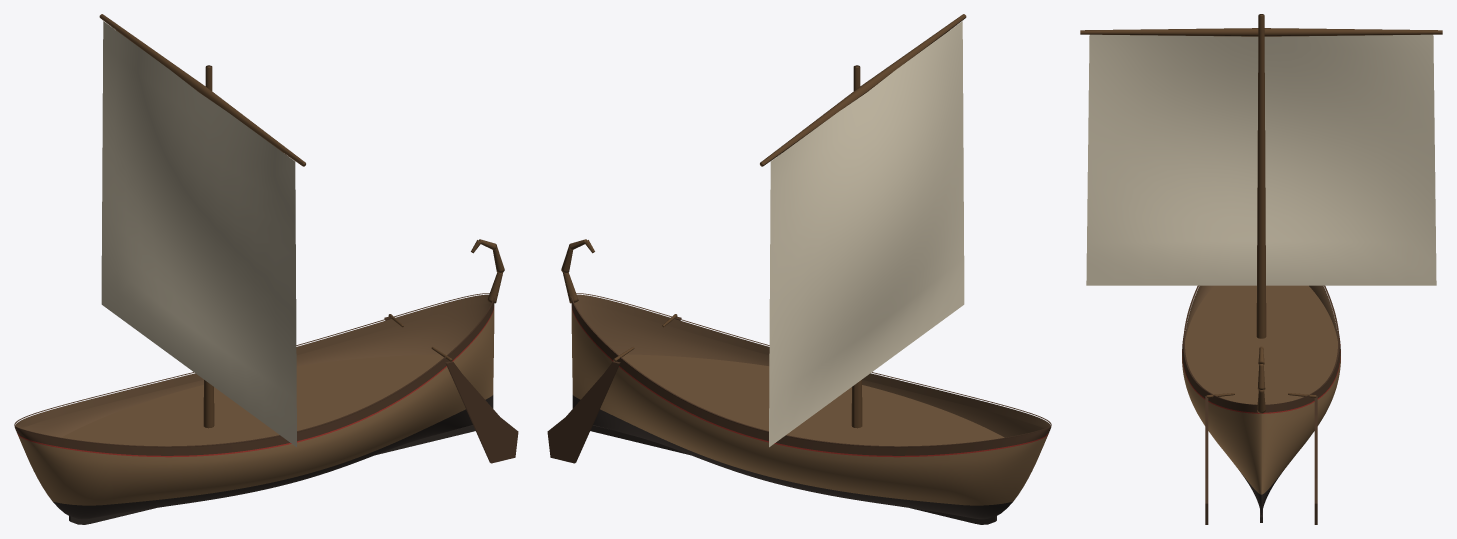
The model's file is laurons.glb.
3 renders of one model, left to right at view 1: azimuth 30°, elevation 25°; view 2: azimuth 150°, elevation 25°; view 3: azimuth 270°, elevation 25°, orthographic. The views are drawn at different scales.
Visible parts, largest first — view 1: Vela, Casco, Pavimento, Interior, Leme, Verga, Borda, Quilha, Mastro; view 2: Vela, Casco, Pavimento, Interior, Leme_2, Verga, Borda, Quilha, Mastro; view 3: Vela, Pavimento, Casco, Mastro, Verga, Interior, Borda, Leme, Leme_2.
Part boxes in pixels (bbox=[...]): Vela: bbox=[101, 21, 296, 447]; Casco: bbox=[14, 299, 494, 519]; Pavimento: bbox=[61, 354, 447, 446]; Interior: bbox=[15, 294, 491, 437]; Leme: bbox=[445, 361, 518, 463]; Verga: bbox=[99, 14, 305, 166]; Borda: bbox=[14, 293, 494, 447]; Quilha: bbox=[69, 425, 475, 524]; Mastro: bbox=[203, 65, 214, 428]; Vela: bbox=[769, 21, 964, 447]; Casco: bbox=[571, 299, 1051, 519]; Pavimento: bbox=[618, 354, 1004, 446]; Interior: bbox=[574, 294, 1050, 437]; Leme_2: bbox=[547, 361, 620, 463]; Verga: bbox=[760, 14, 966, 166]; Borda: bbox=[571, 293, 1051, 447]; Quilha: bbox=[590, 425, 996, 524]; Mastro: bbox=[851, 65, 862, 428]; Vela: bbox=[1086, 34, 1436, 285]; Pavimento: bbox=[1185, 285, 1337, 404]; Casco: bbox=[1182, 336, 1340, 518]; Mastro: bbox=[1256, 14, 1266, 338]; Verga: bbox=[1080, 28, 1442, 36]; Interior: bbox=[1185, 285, 1337, 340]; Borda: bbox=[1183, 285, 1339, 405]; Leme: bbox=[1205, 396, 1208, 524]; Leme_2: bbox=[1314, 396, 1317, 524].
Size of the model in its own units: 16.16 by 13.75 by 11.6.
